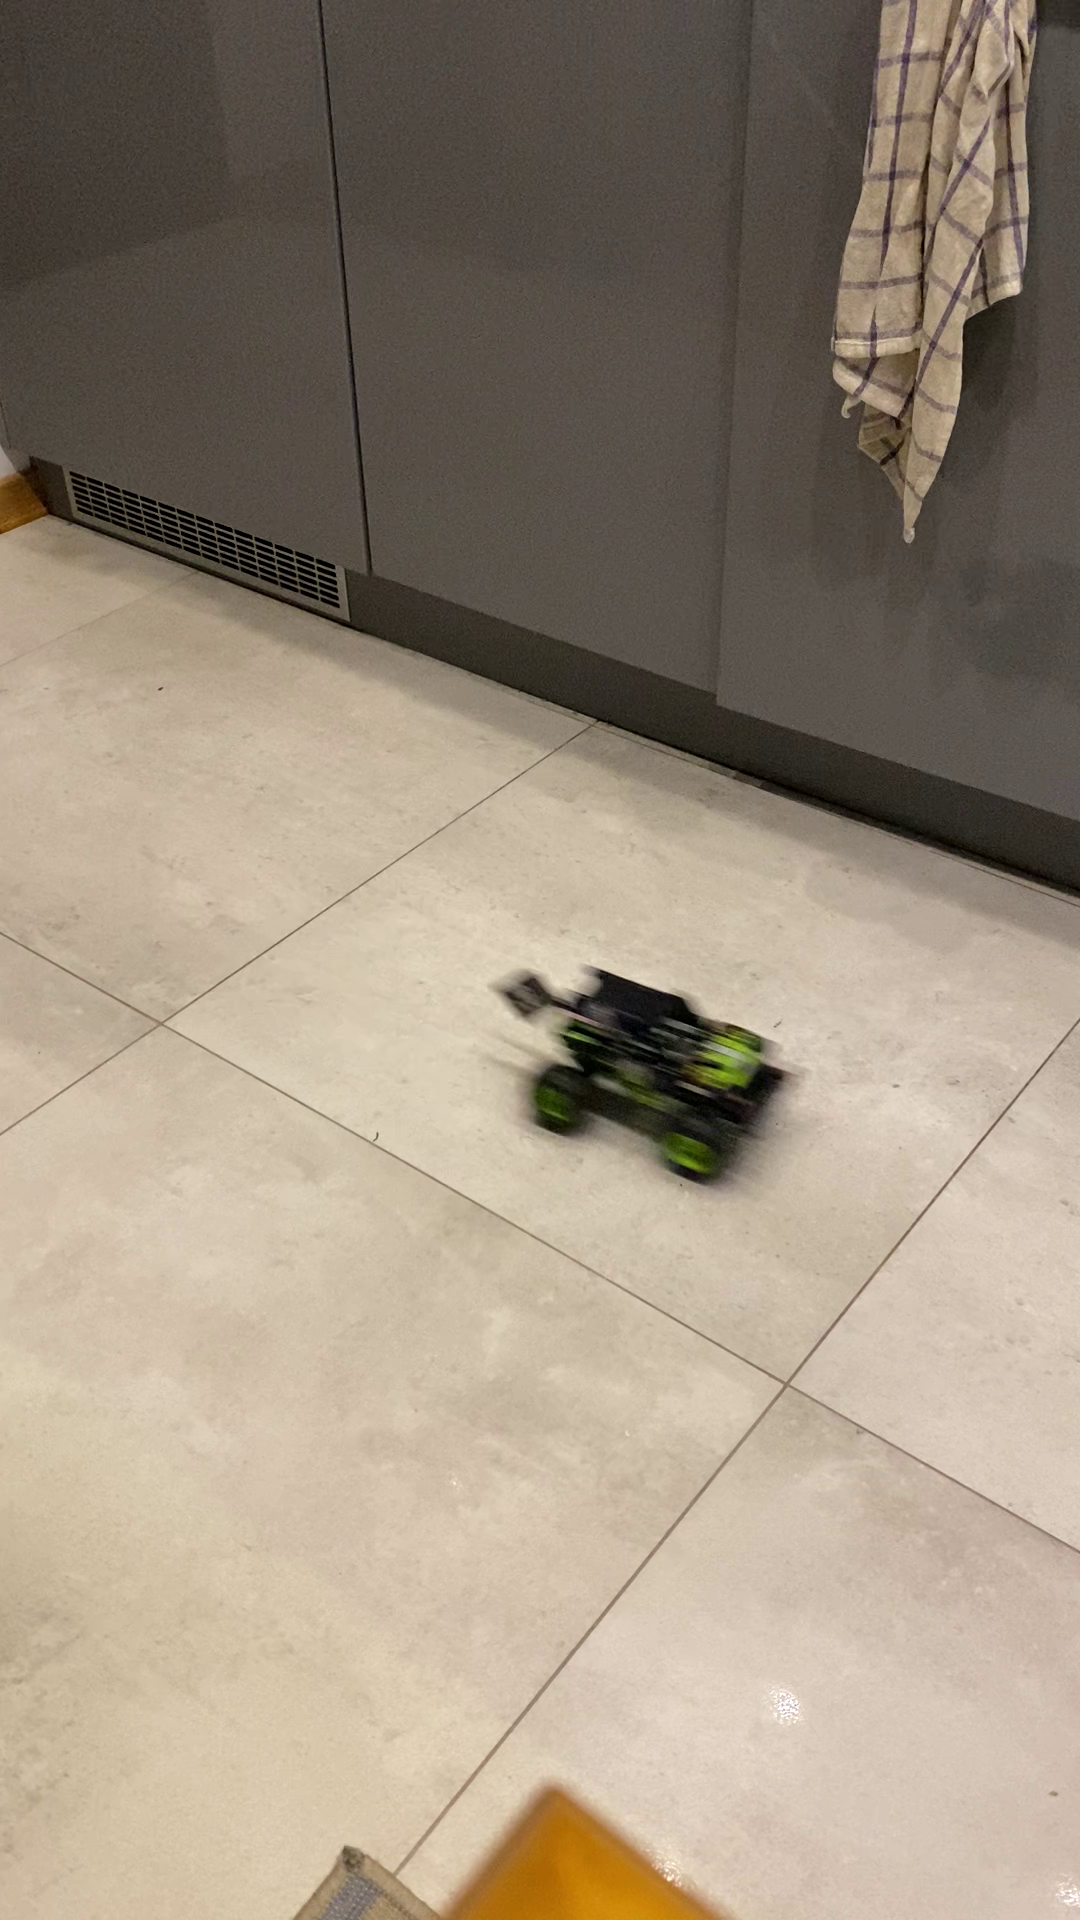car: (510, 963, 781, 1195)
